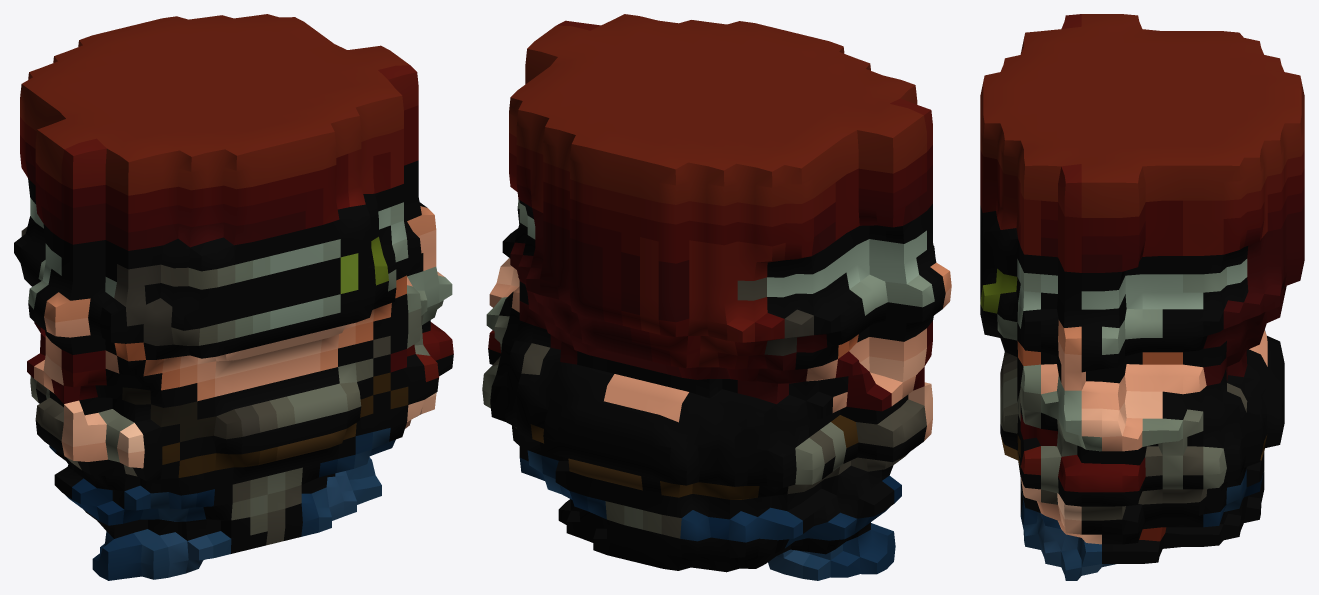
File: Icon_701_03.obj
3 renders of one model, left to right at view 1: azimuth 30°, elevation 25°; view 2: azimuth 150°, elevation 25°; view 3: azimuth 270°, elevation 25°, orthographic. The views are drawn at different scales.
Size of the model in its own units: 2.3 by 2.4 by 1.6.
Materials: 1 (1 with a texture image).
